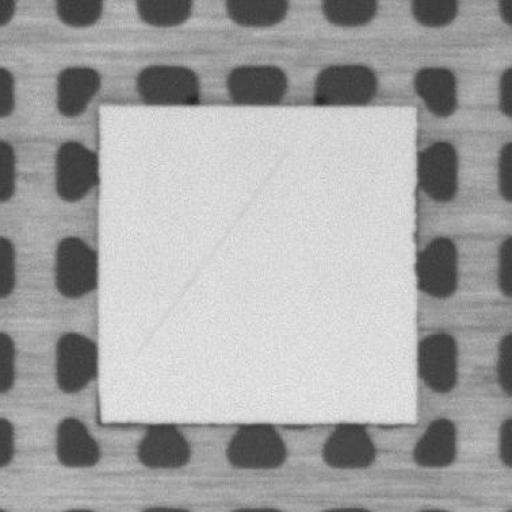DIE_CRACK: (136, 152, 285, 352)
